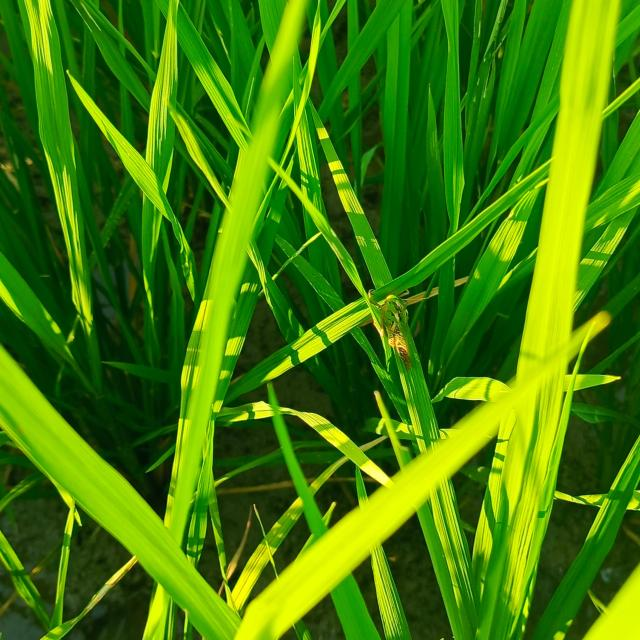belalang pada tanaman padi: (367, 288, 416, 372)
rice leaf roller -penggulung daun padi-: (4, 2, 636, 637)
